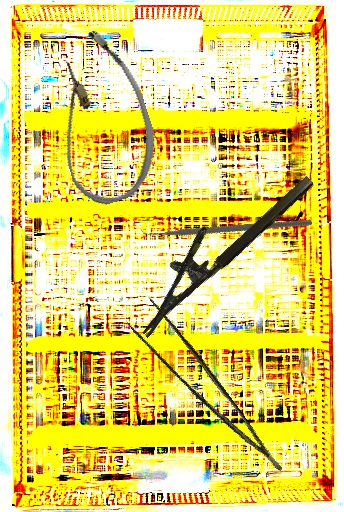Cannula: (31, 22, 171, 213)
Chopper: (136, 139, 313, 308)
Needle Holder: (117, 152, 316, 339)
Tissue Forceps: (119, 288, 283, 493)
